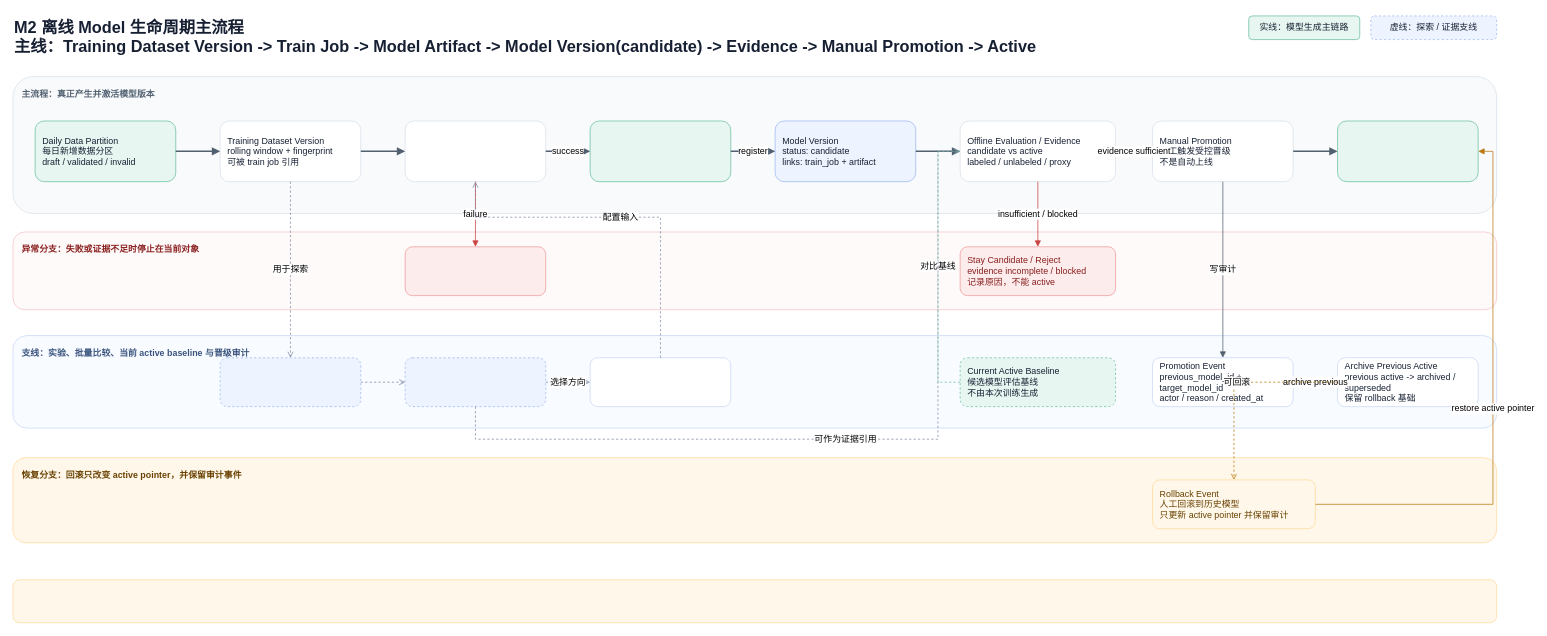
This 1547x636 diagram has some shape labels left out. The centre of each missing label's shape, as x and y in pixels:
Active Model Pointer scope 内唯一 active 作为后续对比基线: [1407,151]
Batch Compare 多算法 / 参数比较 选择候选方向: [475,382]
Experiment Run 单算法实验 理解算法行为: [290,382]
Model Artifact model.json + params + schema 训练统计量 / metrics: [660,151]
Train Failed 记录 error_message 不生成 Model Version: [475,271]
Train Job input: training_dataset_id algo / params / seed: [475,151]
Training Config algorithm + params + seed 供 Train Job 使用: [660,382]
边界说明：本图描述 M2 离线模型生命周期；active 只表示模型注册表中的生效版本，不表示在线 serving、生产流量切换、多租户权限或自动发布。: [754,601]
